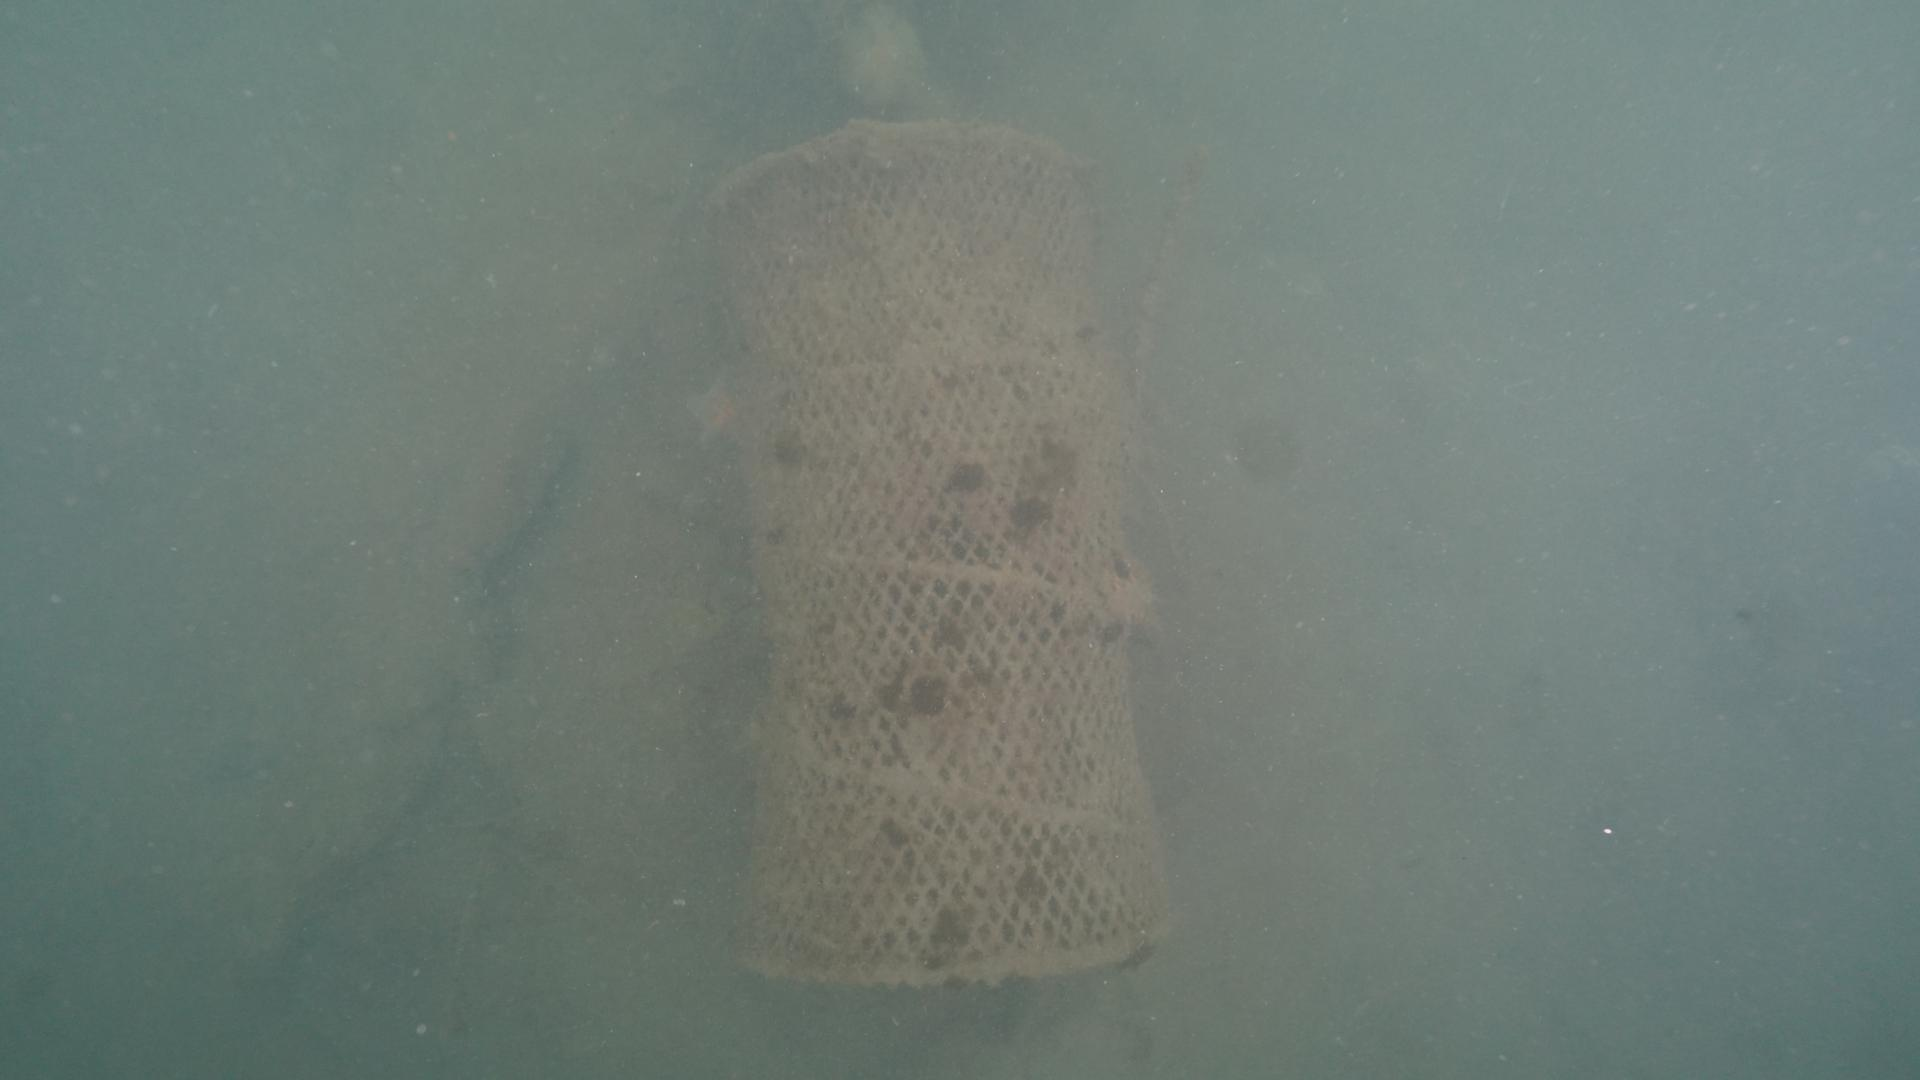spring fish trap: (683, 120, 1168, 998)
